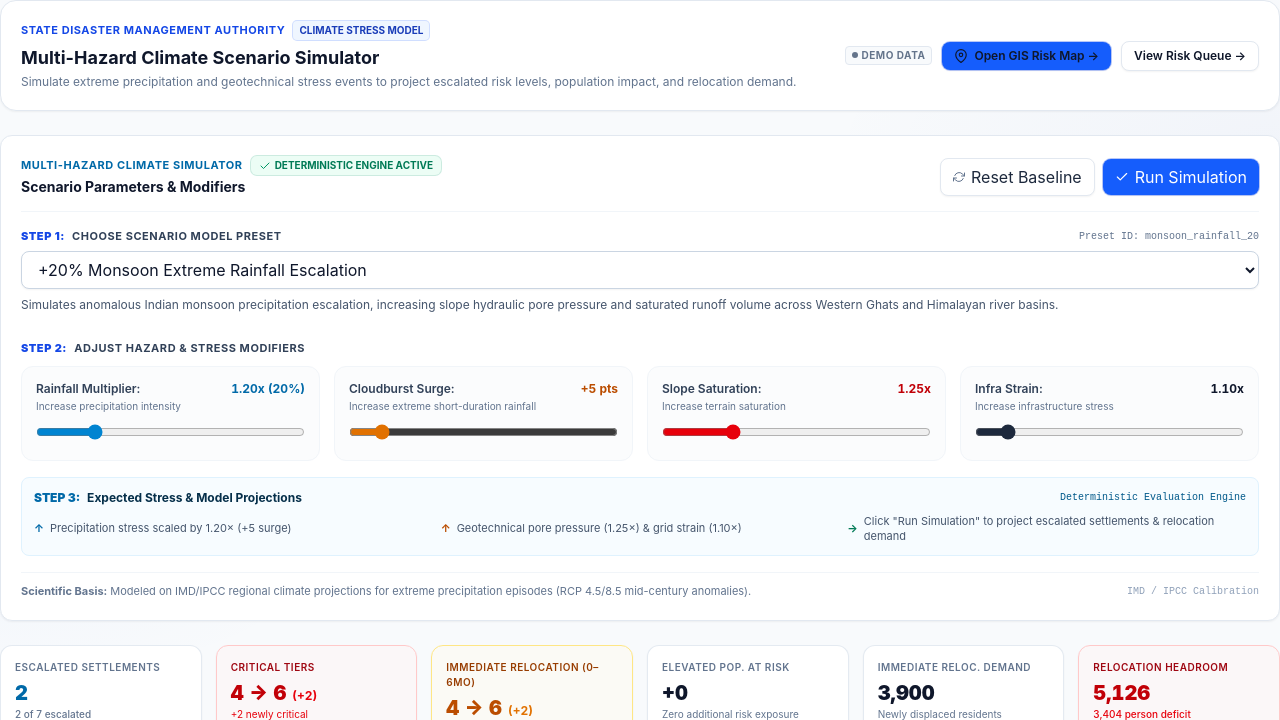
Test: Scenario UI Components (Reliability & Control) › handles simulation API error gracefully in ScenariosWorkspace
Click the button "Run Simulation": [1181, 176] box [1103, 158, 1259, 194]
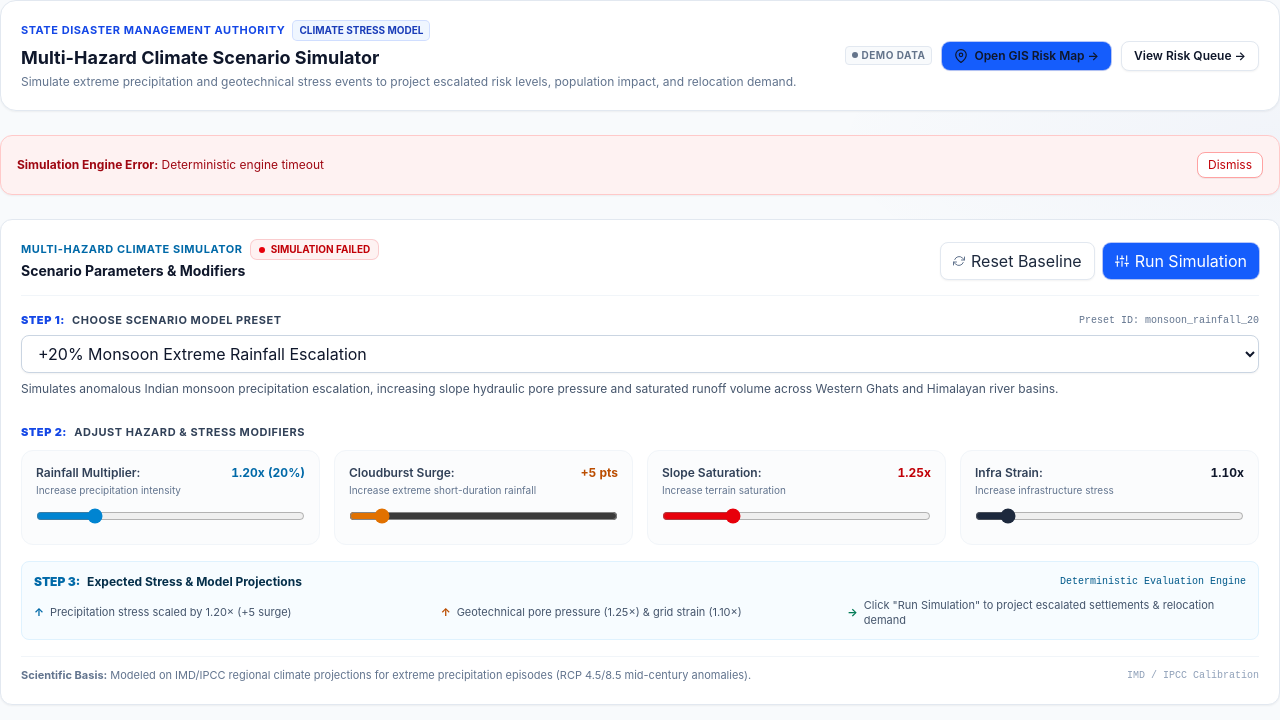
Expected: the text "Simulation Engine Error: Deterministic engine timeout" is shown, [17, 157, 324, 173]
Note: Dismiss error
Click the button "Dismiss": [1230, 165] box [1197, 152, 1263, 178]
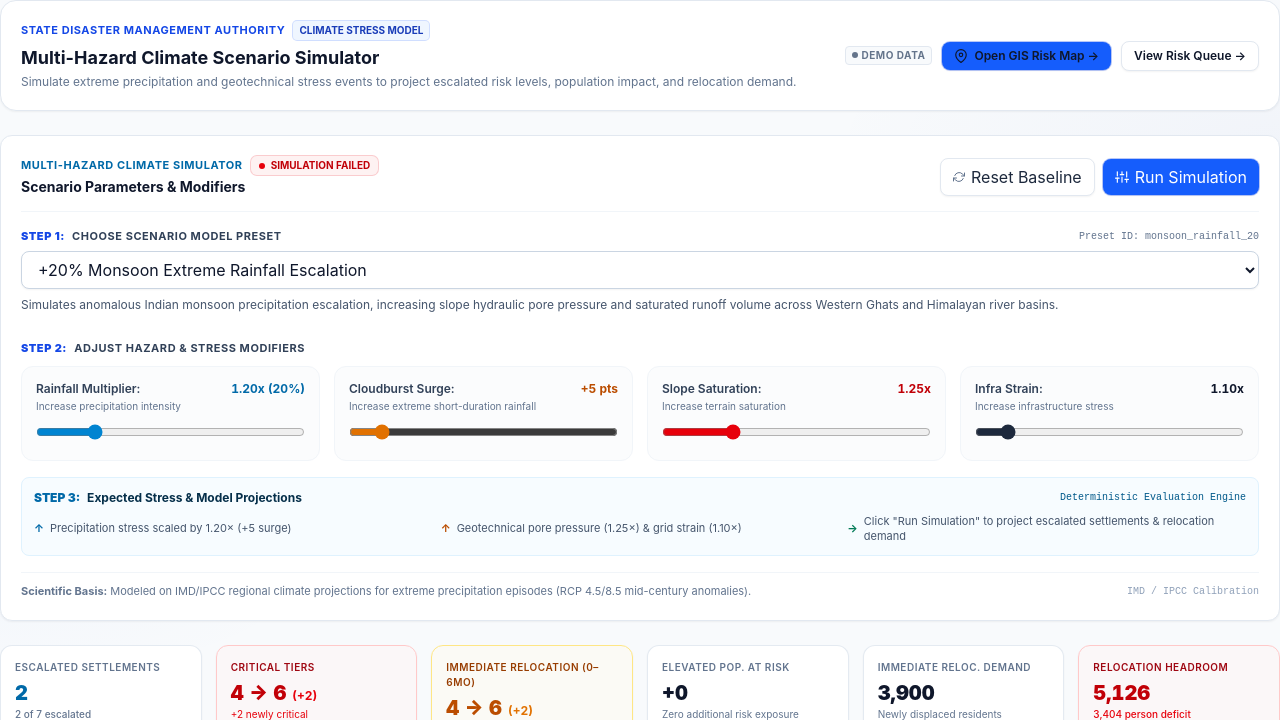
Expected: the text "Deterministic engine timeout" is gone
